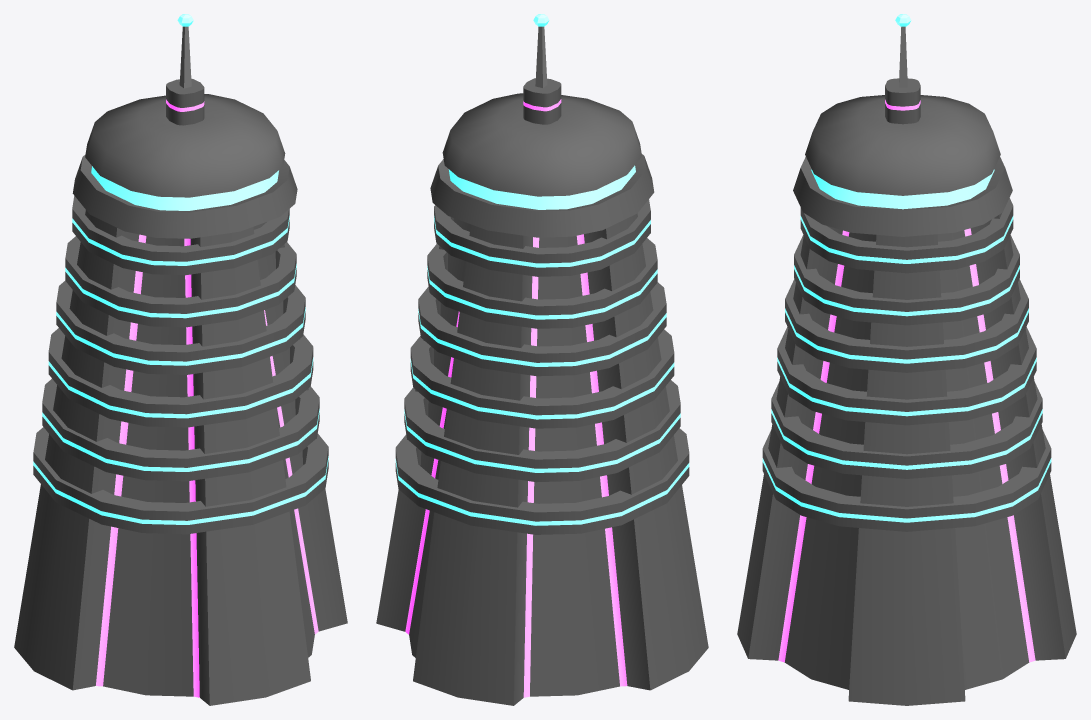
The model's file is mesh_Rooftop_Background_Building_H.fbx.
3 views of the same model, side by side, from view 1: azimuth 30°, elevation 25°; view 2: azimuth 150°, elevation 25°; view 3: azimuth 270°, elevation 25° (orthographic).
Visible parts, largest first — view 1: mesh_Rooftop_Background_Building_H; view 2: mesh_Rooftop_Background_Building_H; view 3: mesh_Rooftop_Background_Building_H.
Part boxes in pixels (bbox=[...]): mesh_Rooftop_Background_Building_H: bbox=[14, 14, 347, 705]; mesh_Rooftop_Background_Building_H: bbox=[376, 14, 708, 705]; mesh_Rooftop_Background_Building_H: bbox=[737, 14, 1076, 705].
Size of the model in its own units: 15.53 by 31.6 by 15.53.
